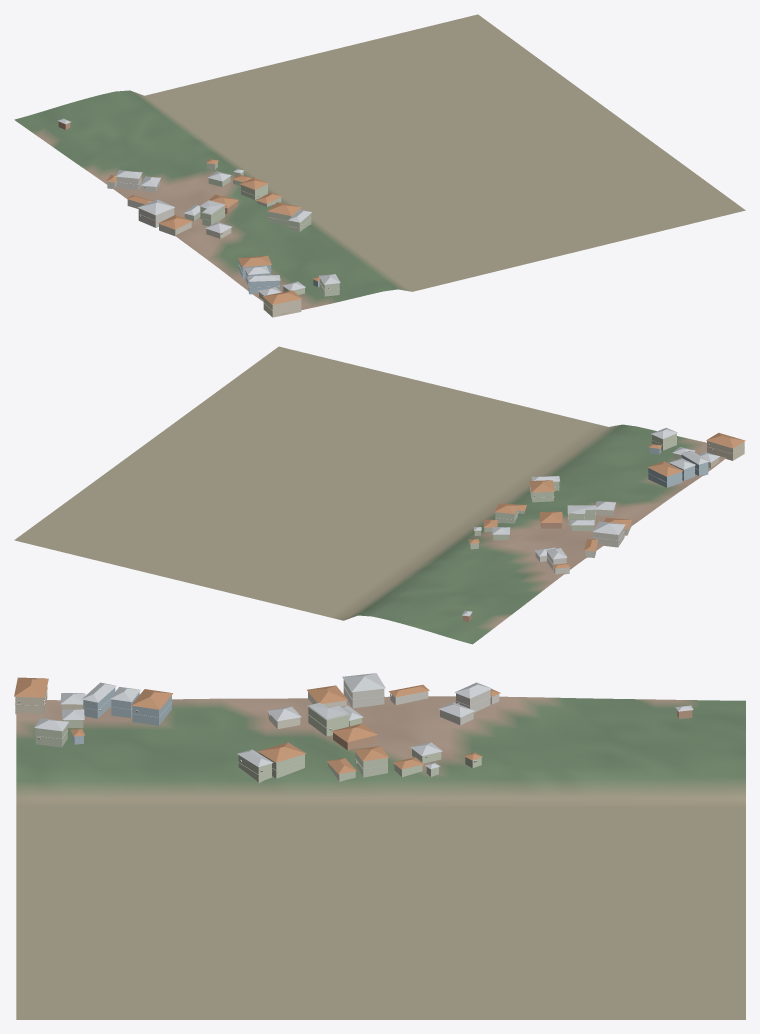
3 views of the same model, one above another, from view 1: azimuth 30°, elevation 25°; view 2: azimuth 150°, elevation 25°; view 3: azimuth 270°, elevation 25° (orthographic). The views are drawn at different scales.
Parts seen in each view (by area): view 1: Terrain-col, Buildings-col; view 2: Terrain-col, Buildings-col; view 3: Terrain-col, Buildings-col, Details.
Boxes of the visible parts, box(x1,y1,x2,y2) form: Terrain-col: box(14, 14, 745, 314); Buildings-col: box(57, 118, 340, 317); Terrain-col: box(14, 346, 725, 644); Buildings-col: box(462, 427, 745, 621); Terrain-col: box(16, 696, 745, 1019); Buildings-col: box(14, 673, 693, 782); Details: box(15, 685, 490, 775).
Bounding box in the file's own units: 263 × 14.19 × 257.
